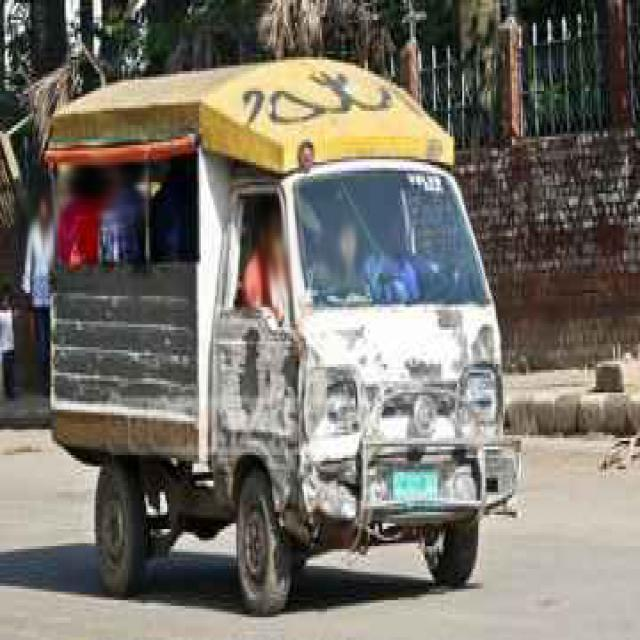Leguna: (4, 25, 550, 623)
